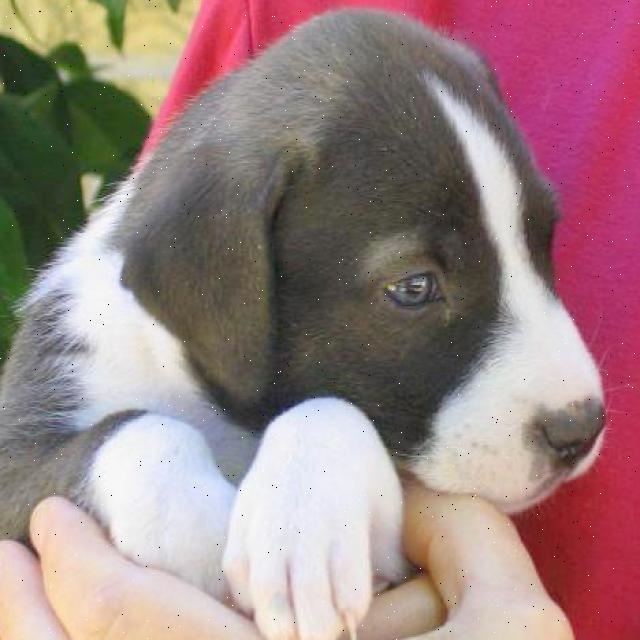Dog: (108, 6, 616, 516), (111, 11, 614, 520)
